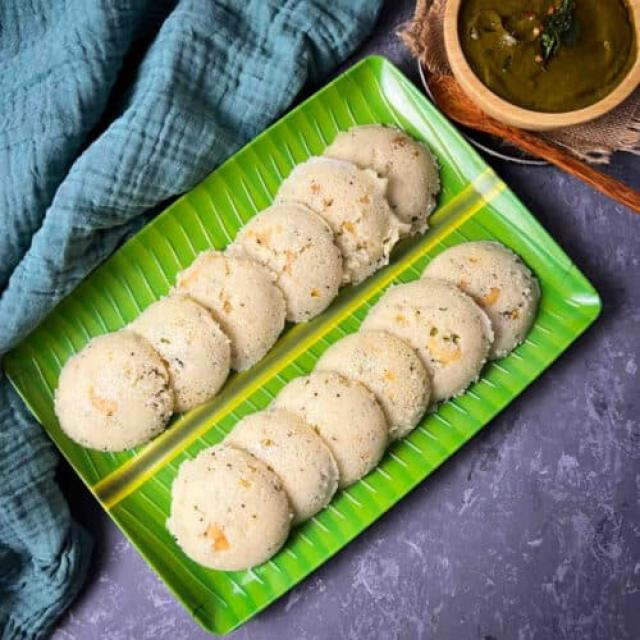IDLI: (55, 333, 176, 456), (365, 280, 492, 397), (170, 448, 291, 568), (280, 156, 391, 280), (175, 251, 290, 369), (426, 241, 540, 360), (128, 291, 236, 408), (235, 205, 346, 317), (270, 374, 382, 485), (322, 330, 433, 440), (218, 411, 334, 513), (324, 119, 435, 224)
